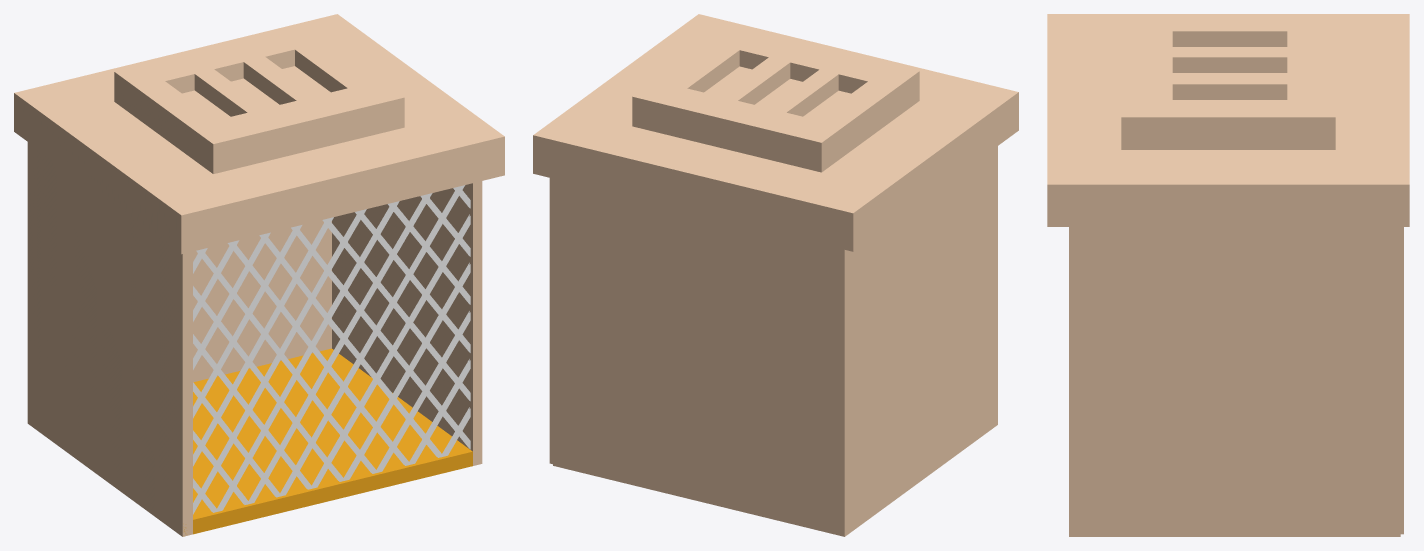
Rendered from telerport_4.fbx.
The picture shows the model from 3 angles, left to right: view 1: azimuth 30°, elevation 25°; view 2: azimuth 150°, elevation 25°; view 3: azimuth 270°, elevation 25°; orthographic projection. The views are drawn at different scales.
Parts seen in each view (by area): view 1: polySurface3, telerport_4, polySurface2; view 2: polySurface3; view 3: polySurface3.
Part boxes in pixels (x1,y1,x2,y2): polySurface3: [14, 14, 504, 536]; telerport_4: [193, 185, 470, 514]; polySurface2: [184, 348, 472, 536]; polySurface3: [533, 14, 1018, 536]; polySurface3: [1047, 14, 1409, 536].
Size of the model in its own units: 3.13 by 3.34 by 2.81.
2 materials, 2 textured.
